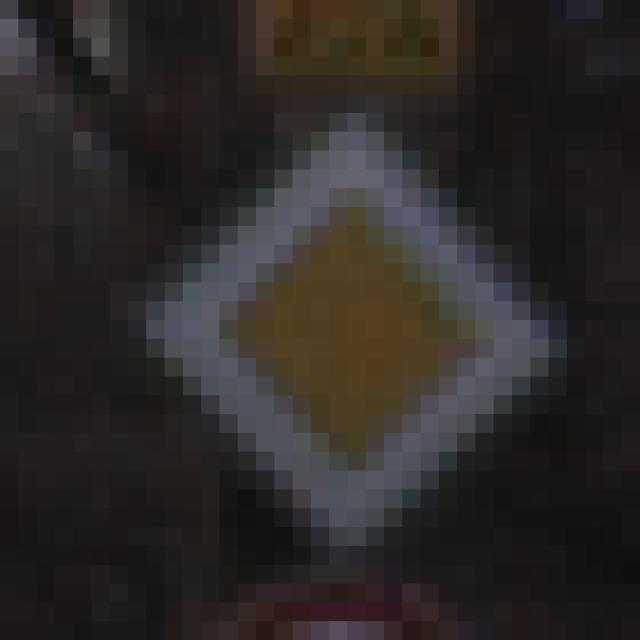Main Road: (111, 95, 550, 547)
